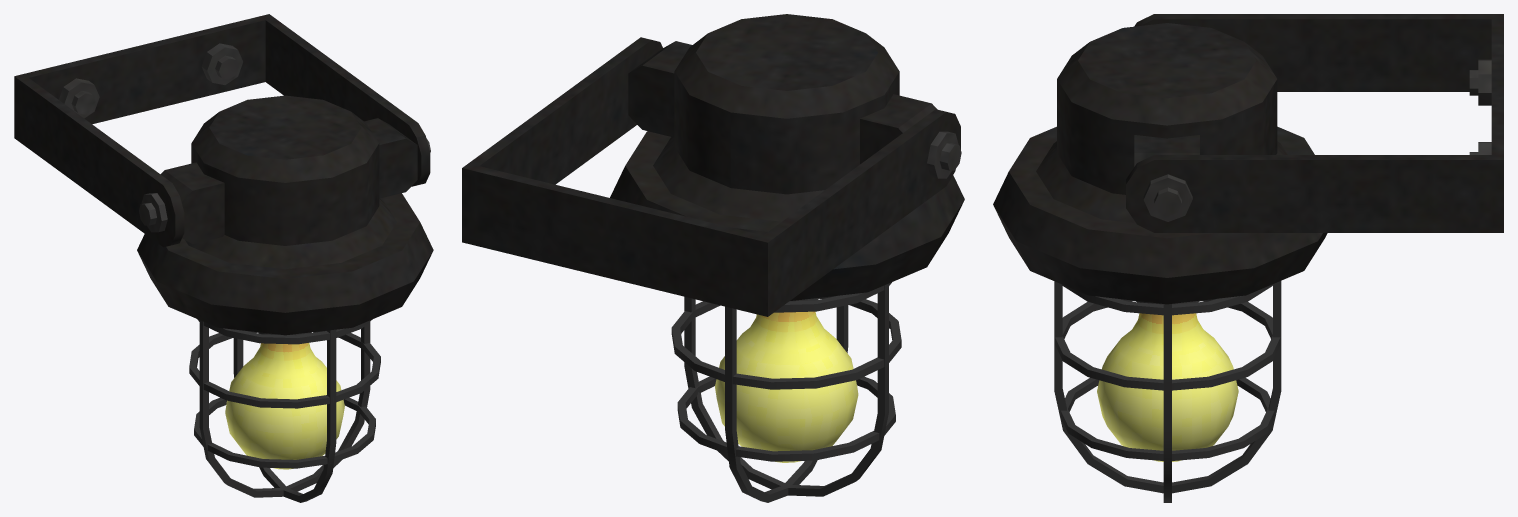
Rendered from lamp_mx_1_a_on.obj.
3 renders of one model, left to right at view 1: azimuth 30°, elevation 25°; view 2: azimuth 150°, elevation 25°; view 3: azimuth 270°, elevation 25°, orthographic. The views are drawn at different scales.
Parts seen in each view (by area): view 1: lamp_mx_1_a_on; view 2: lamp_mx_1_a_on; view 3: lamp_mx_1_a_on.
Part boxes in pixels (box(x1,y1,x2,y2)): lamp_mx_1_a_on: box(14, 14, 433, 502); lamp_mx_1_a_on: box(462, 14, 964, 502); lamp_mx_1_a_on: box(993, 14, 1503, 502).
Bounding box in the file's own units: 0.1876 × 0.2352 × 0.2522.
